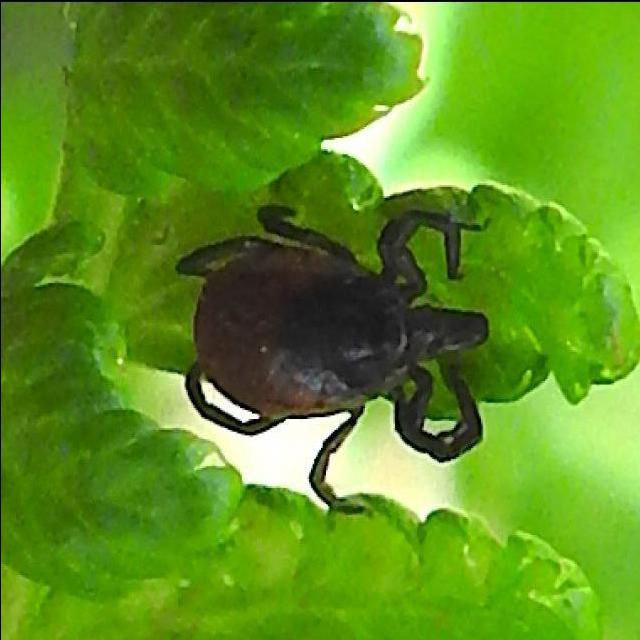Ixodes Ricinus-F: (173, 201, 488, 508)
